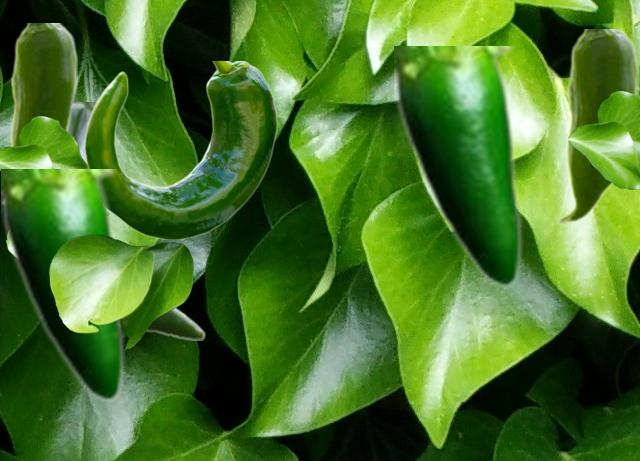green_chili: (84, 61, 277, 238), (69, 102, 205, 339), (394, 46, 522, 288), (1, 169, 124, 402), (555, 29, 637, 225), (0, 23, 76, 204)
